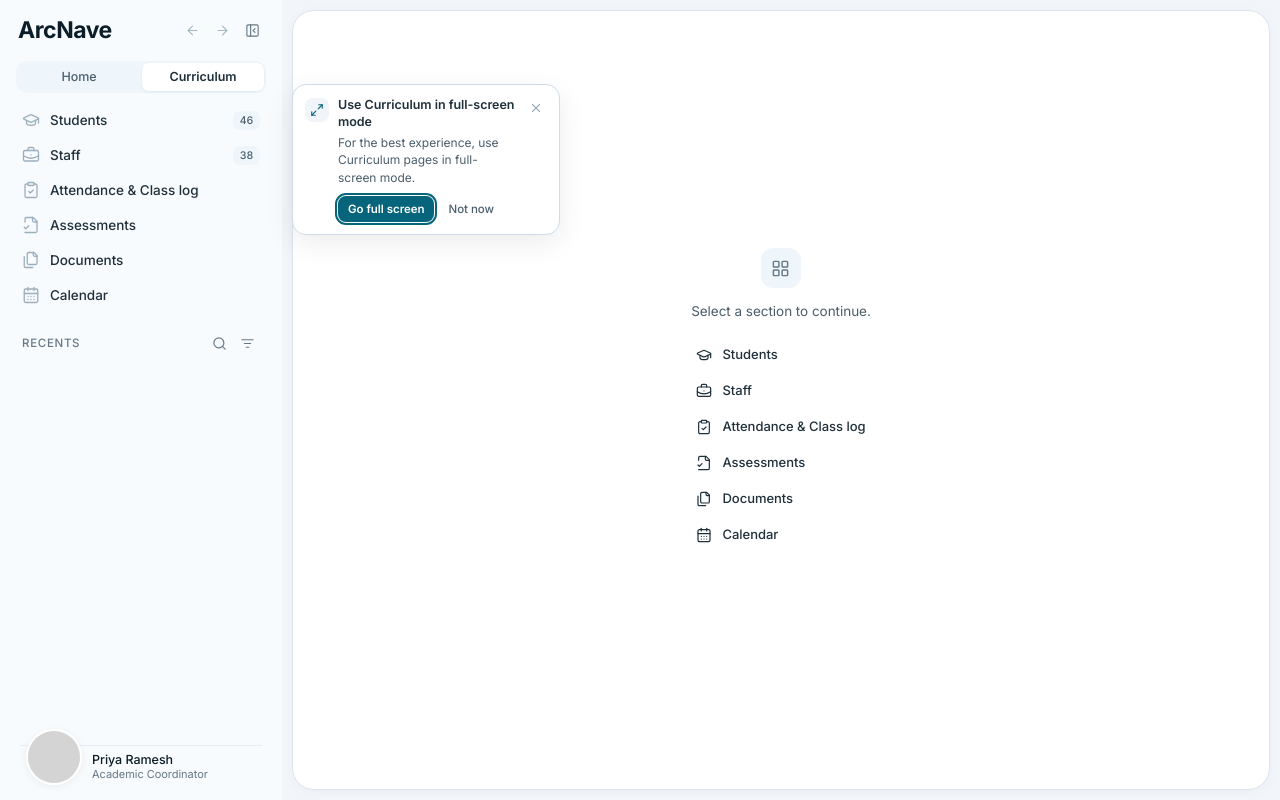
Scenario: The scope line states the term the screen is showing › tracks the live term rather than the label the fixtures loaded with
Click the button with aria-label "open profile": coordinates (141, 767) 20,746 -> 262,788
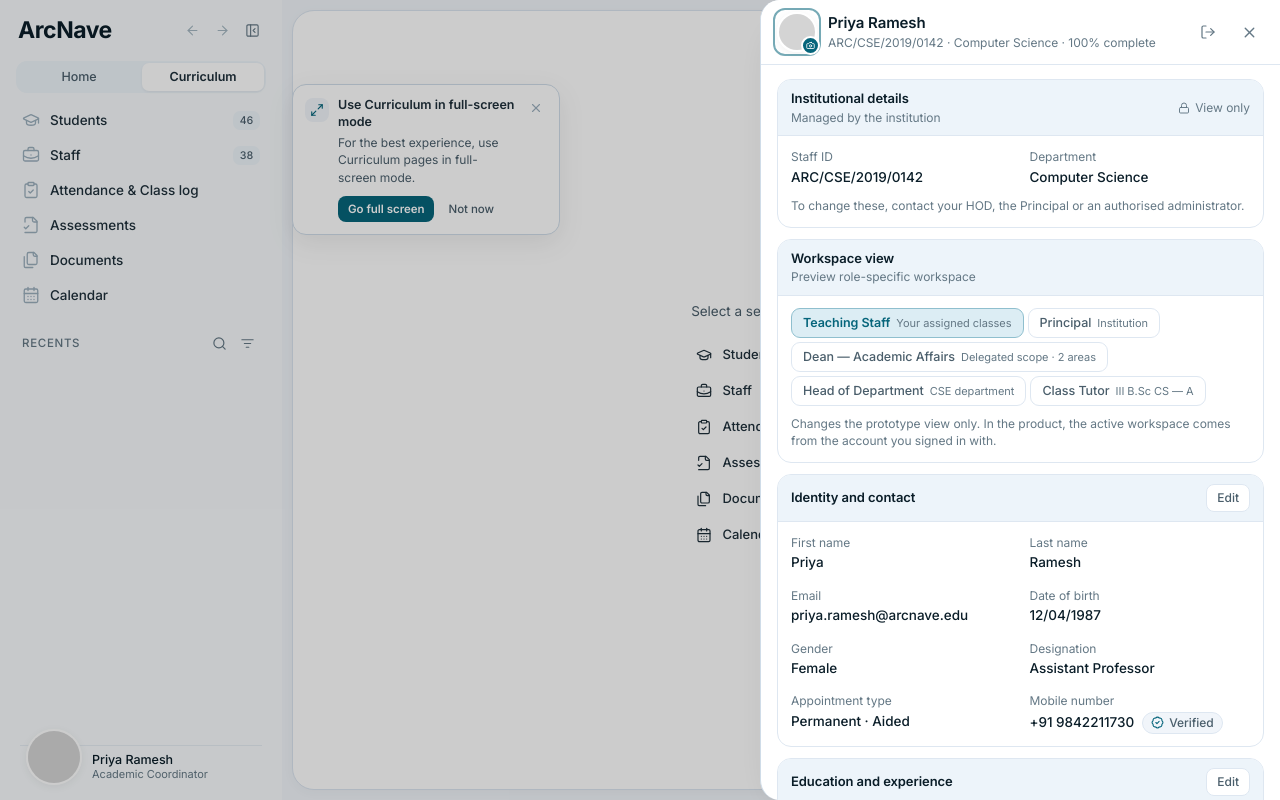
Click the radio button labelled "Principal": coordinates (1094, 323) 1028,308 -> 1160,338
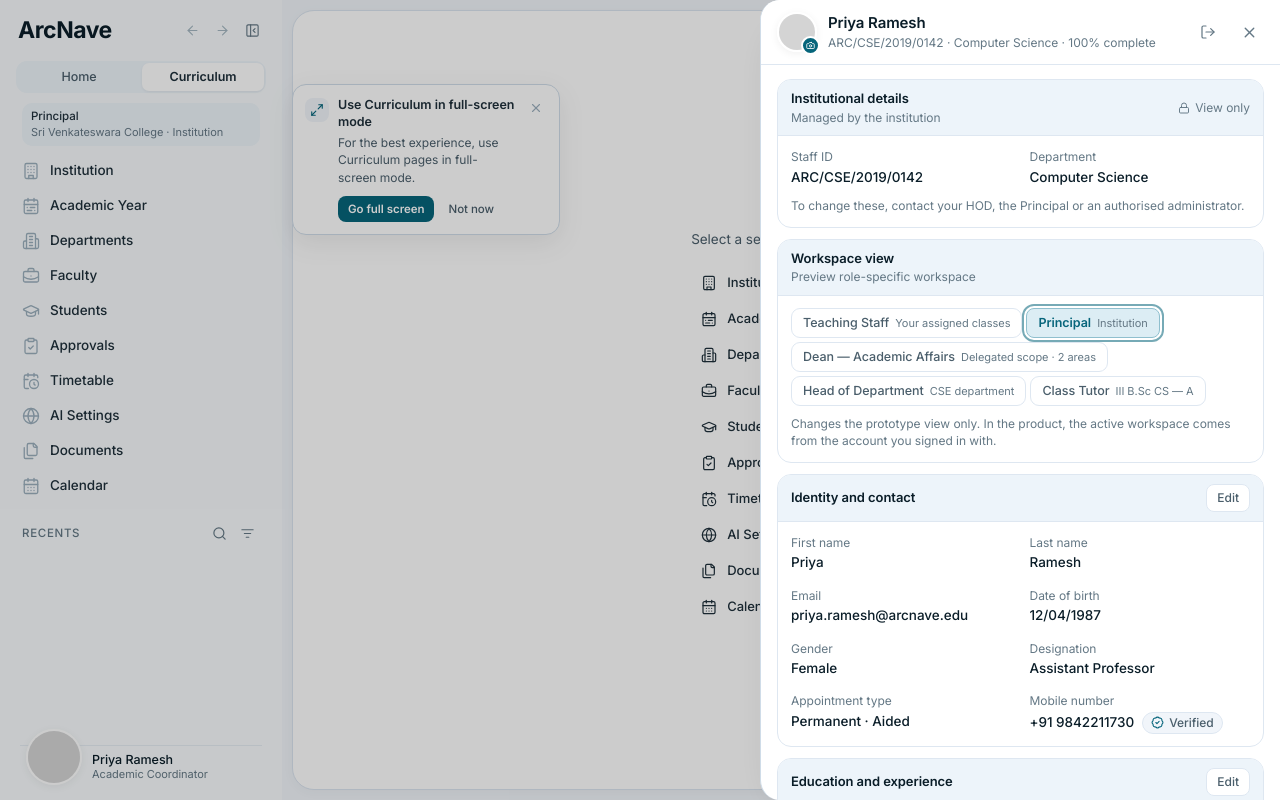
Click the button named "close profile": coordinates (1249, 32) 1234,17 -> 1264,47
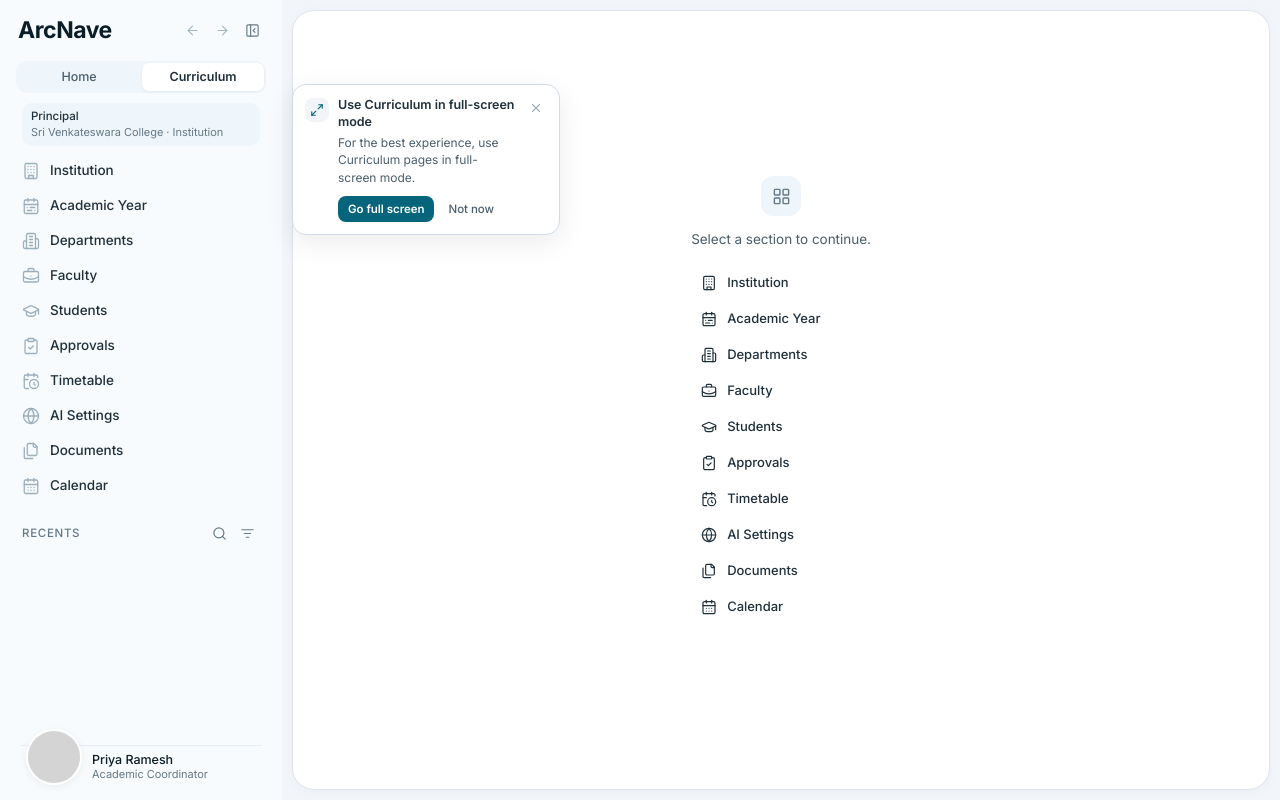
Click the link "Academic Year" below "Sri Venkateswara College": coordinates (84, 206) 22,197 -> 147,215
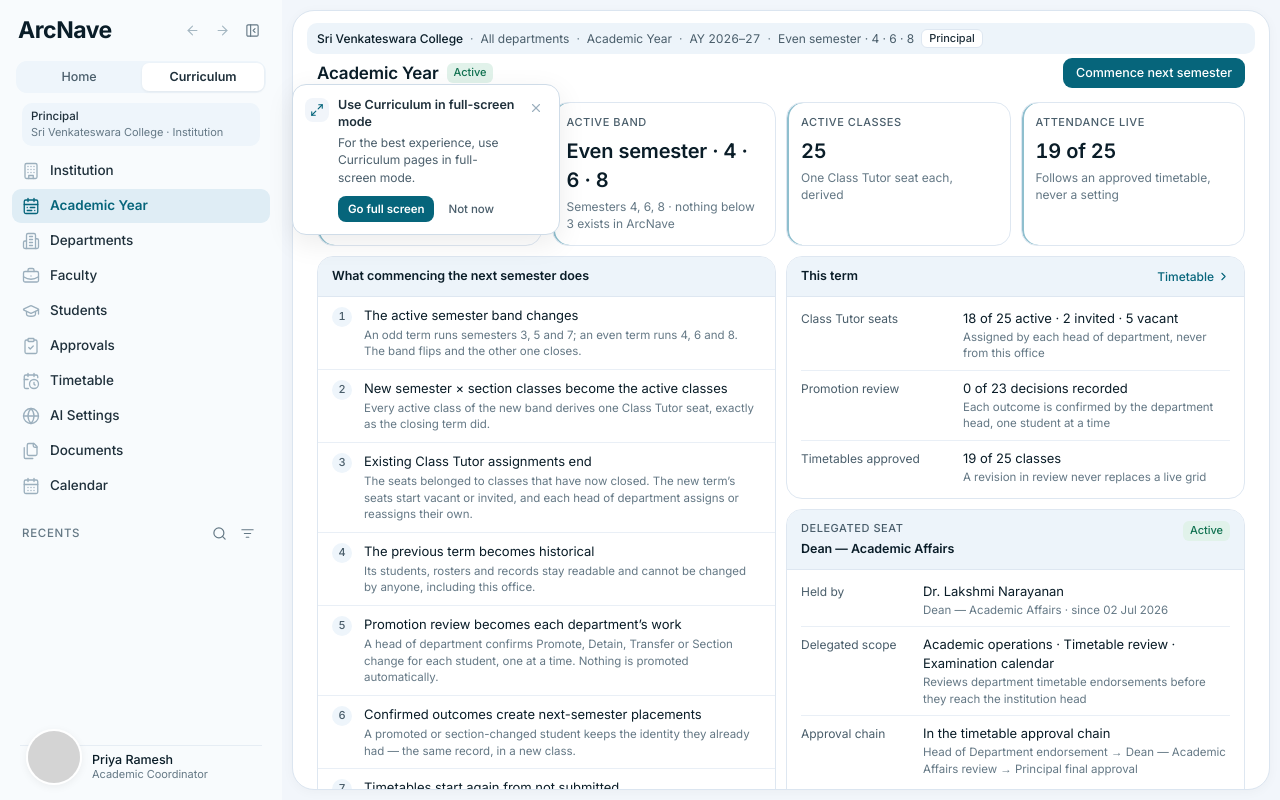
Expected: the text "AY 2026–27" is shown, 690,30 -> 761,47
Expected: the text "Even semester · 4 · 6 · 8" in the row of "All departments" is shown, 778,31 -> 914,46
Click the button "Commence next semester": coordinates (1154, 73) 1063,58 -> 1245,88
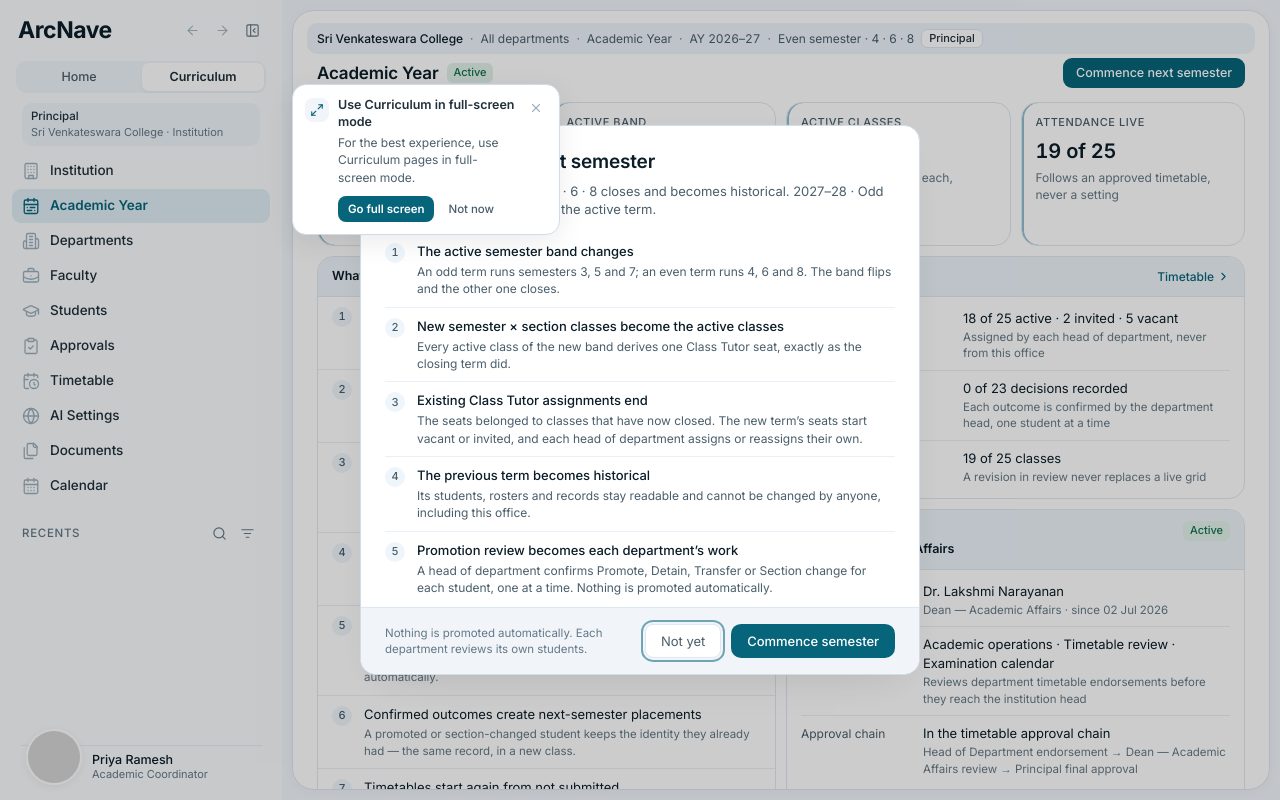
Click the button "Commence semester": coordinates (813, 641) 731,624 -> 895,658
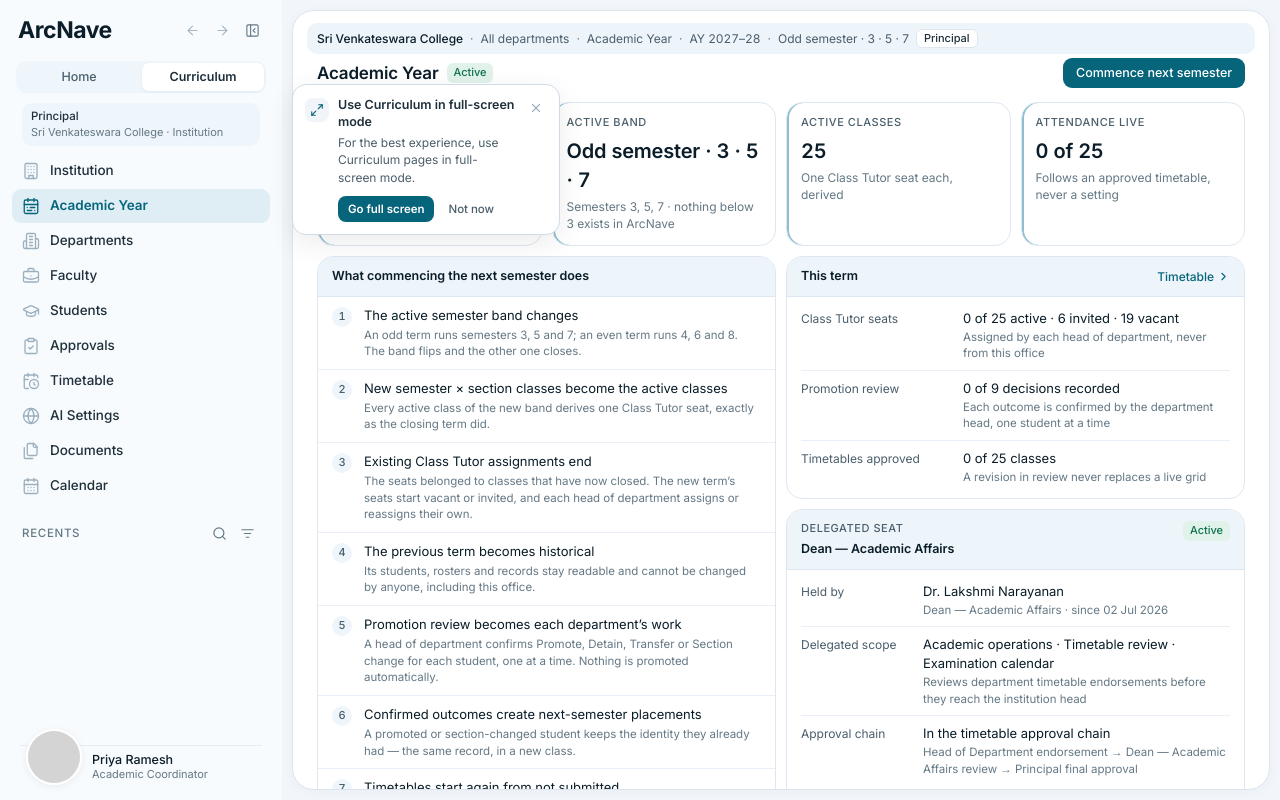
Expected: the text "AY 2027–28" is shown, 690,30 -> 761,47
Expected: the text "Odd semester · 3 · 5 · 7" in the row of "All departments" is shown, 778,31 -> 909,46
Expected: the text "AY 2026–27" is gone
